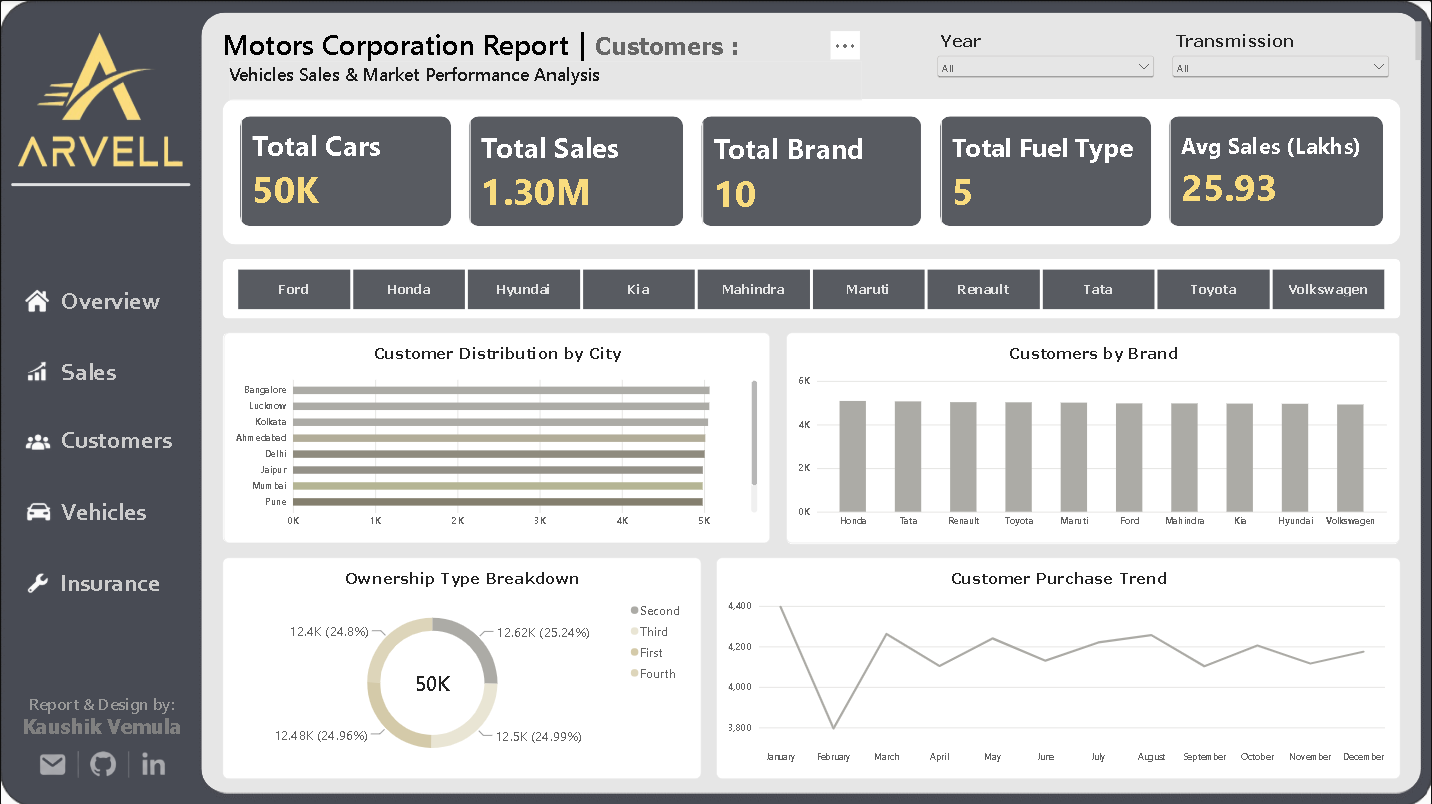

This screenshot's page, from the dashboard's own definition file:
{"tool":"powerbi","page":{"name":"Customers","canvas":[1920,1080],"ordinal":2},"visuals":[{"type":"shape","box":[269.9,17.5,1634,1044.6],"z":0},{"type":"shape","box":[297.6,132.8,1578.6,195.5],"z":1000},{"type":"shape","box":[321,156.1,283,147.4],"z":2000},{"type":"shape","box":[1565.5,156.1,287.4,147.4],"z":3000},{"type":"shape","box":[1259.1,156.1,283,147.4],"z":4000},{"type":"shape","box":[939.6,156.1,294.7,147.4],"z":5000},{"type":"shape","box":[627.4,156.1,287.4,147.4],"z":6000},{"type":"textbox","box":[298,28,1606,54],"z":12000},{"type":"textbox","box":[307.1,81.4,847.1,52.9],"z":13000},{"type":"image","box":[15,26.7,240,215],"z":14000},{"type":"shape","box":[15.7,191.4,240,112.9],"z":15000},{"type":"textbox","box":[16,928,240,66],"z":16000},{"type":"image","box":[16,994,240,62],"z":17000},{"type":"actionButton","box":[38.4,1004.7,66.3,40.1],"z":18000},{"type":"actionButton","box":[170.9,1004.7,66.3,40.1],"z":19000},{"type":"actionButton","box":[104.7,1004.7,66.3,40.1],"z":20000},{"type":"cardVisual","fields":{"Data":["Count(Master_Car_Data.Car_ID)"]},"box":[320.8,155.4,286.9,145.4],"z":21000},{"type":"cardVisual","fields":{"Data":["Sum(Master_Car_Data.Sale_Price_Lakh)"]},"box":[627.7,156.9,276.9,146.2],"z":22000},{"type":"cardVisual","fields":{"Data":["Count(Master_Car_Data.Brand)"]},"box":[939.2,158.5,294.6,146.2],"z":23000},{"type":"cardVisual","fields":{"Data":["Avg(Master_Car_Data.Sale_Price_Lakh)"]},"box":[1565.4,155.4,292.3,147.7],"z":24000},{"type":"cardVisual","fields":{"Data":["Count(Master_Car_Data.Fuel_Type)"]},"box":[1259.2,156.9,283.8,146.2],"z":25000},{"type":"textbox","box":[81.4,384.3,154.3,44.3],"z":26000},{"type":"textbox","box":[81.4,479.3,155,50],"z":27000},{"type":"textbox","box":[81.4,666.4,157.1,52.1],"z":28000},{"type":"textbox","box":[80.2,762.2,141.3,45.3],"z":29000},{"type":"textbox","box":[81.4,570,175,41.4],"z":30000},{"type":"image","box":[28.5,384.6,43.1,36.9],"z":31000},{"type":"image","box":[30.9,479.1,38.2,37.3],"z":32000},{"type":"image","box":[31,572,38,38],"z":33000},{"type":"image","box":[31.2,666.2,40,37.5],"z":34000},{"type":"image","box":[31.2,762.5,37.5,37.5],"z":35000},{"type":"actionButton","box":[30,473.3,141.7,48.3],"z":36000},{"type":"actionButton","box":[28,568,208,48],"z":37000},{"type":"actionButton","box":[28.6,661.4,175.7,48.6],"z":38000},{"type":"actionButton","box":[31.4,758.7,190.1,48.8],"z":39000},{"type":"actionButton","box":[25.7,378.6,195.7,48.6],"z":40000},{"type":"shape","box":[298.3,347.1,1578.5,80.2],"z":41000},{"type":"advancedSlicerVisual","fields":{"Values":["Master_Car_Data.Brand"]},"box":[298.3,360,1578.3,55],"z":41001},{"type":"slicer","fields":{"Values":["Master_Car_Data.Year"]},"box":[1252,42,300,66],"z":41002},{"type":"slicer","fields":{"Values":["Master_Car_Data.Transmission"]},"box":[1566,42,300,66],"z":41003},{"type":"shape","box":[298,446,734,282],"z":41004},{"type":"shape","box":[1054,446,822,284],"z":41005},{"type":"shape","box":[300,746.7,640,296.7],"z":41006},{"type":"shape","box":[960,746.7,916.7,296.7],"z":41007},{"type":"barChart","title":"Customer Distribution by City","fields":{"Category":["Master_Car_Data.City"],"Y":["Count(Master_Car_Data.Buyer_Name)"]},"box":[300,446,732,282],"z":41008},{"type":"donutChart","title":"Ownership Type Breakdown","fields":{"Category":["Master_Car_Data.Owner_Type"],"Y":["Count(Master_Car_Data.Car_ID)"]},"box":[298.3,746.7,641.7,296.7],"z":41009},{"type":"columnChart","title":"Customers by Brand","fields":{"Category":["Master_Car_Data.Brand"],"Y":["Count(Master_Car_Data.Buyer_Name)"]},"box":[1054,446,822,282],"z":41010},{"type":"lineChart","title":"Customer Purchase Trend","fields":{"Category":["Master_Car_Data.Sale_Date.Variation.Date Hierarchy.Month"],"Y":["Count(Master_Car_Data.Buyer_Name)"]},"box":[960,746.7,916.7,296.7],"z":41011}]}

Visuals, with their boxes on the page's 1920x1080 design canvas (x1, y1, x2, y2). These are canvas units, not pixel positions in the 1432x804 screenshot, which may show the page scaled, cropped or inside an application window:
shape: (x1=270, y1=18, x2=1904, y2=1062)
shape: (x1=298, y1=133, x2=1876, y2=328)
shape: (x1=321, y1=156, x2=604, y2=304)
shape: (x1=1566, y1=156, x2=1853, y2=304)
shape: (x1=1259, y1=156, x2=1542, y2=304)
shape: (x1=940, y1=156, x2=1234, y2=304)
shape: (x1=627, y1=156, x2=915, y2=304)
textbox: (x1=298, y1=28, x2=1904, y2=82)
textbox: (x1=307, y1=81, x2=1154, y2=134)
image: (x1=15, y1=27, x2=255, y2=242)
shape: (x1=16, y1=191, x2=256, y2=304)
textbox: (x1=16, y1=928, x2=256, y2=994)
image: (x1=16, y1=994, x2=256, y2=1056)
actionButton: (x1=38, y1=1005, x2=105, y2=1045)
actionButton: (x1=171, y1=1005, x2=237, y2=1045)
actionButton: (x1=105, y1=1005, x2=171, y2=1045)
cardVisual - Count(Master_Car_Data.Car_ID): (x1=321, y1=155, x2=608, y2=301)
cardVisual - Sum(Master_Car_Data.Sale_Price_Lakh): (x1=628, y1=157, x2=905, y2=303)
cardVisual - Count(Master_Car_Data.Brand): (x1=939, y1=158, x2=1234, y2=305)
cardVisual - Avg(Master_Car_Data.Sale_Price_Lakh): (x1=1565, y1=155, x2=1858, y2=303)
cardVisual - Count(Master_Car_Data.Fuel_Type): (x1=1259, y1=157, x2=1543, y2=303)
textbox: (x1=81, y1=384, x2=236, y2=429)
textbox: (x1=81, y1=479, x2=236, y2=529)
textbox: (x1=81, y1=666, x2=238, y2=718)
textbox: (x1=80, y1=762, x2=222, y2=808)
textbox: (x1=81, y1=570, x2=256, y2=611)
image: (x1=28, y1=385, x2=72, y2=422)
image: (x1=31, y1=479, x2=69, y2=516)
image: (x1=31, y1=572, x2=69, y2=610)
image: (x1=31, y1=666, x2=71, y2=704)
image: (x1=31, y1=762, x2=69, y2=800)
actionButton: (x1=30, y1=473, x2=172, y2=522)
actionButton: (x1=28, y1=568, x2=236, y2=616)
actionButton: (x1=29, y1=661, x2=204, y2=710)
actionButton: (x1=31, y1=759, x2=222, y2=808)
actionButton: (x1=26, y1=379, x2=221, y2=427)
shape: (x1=298, y1=347, x2=1877, y2=427)
advancedSlicerVisual - Master_Car_Data.Brand: (x1=298, y1=360, x2=1877, y2=415)
slicer - Master_Car_Data.Year: (x1=1252, y1=42, x2=1552, y2=108)
slicer - Master_Car_Data.Transmission: (x1=1566, y1=42, x2=1866, y2=108)
shape: (x1=298, y1=446, x2=1032, y2=728)
shape: (x1=1054, y1=446, x2=1876, y2=730)
shape: (x1=300, y1=747, x2=940, y2=1043)
shape: (x1=960, y1=747, x2=1877, y2=1043)
"Customer Distribution by City" barChart: (x1=300, y1=446, x2=1032, y2=728)
"Ownership Type Breakdown" donutChart: (x1=298, y1=747, x2=940, y2=1043)
"Customers by Brand" columnChart: (x1=1054, y1=446, x2=1876, y2=728)
"Customer Purchase Trend" lineChart: (x1=960, y1=747, x2=1877, y2=1043)
